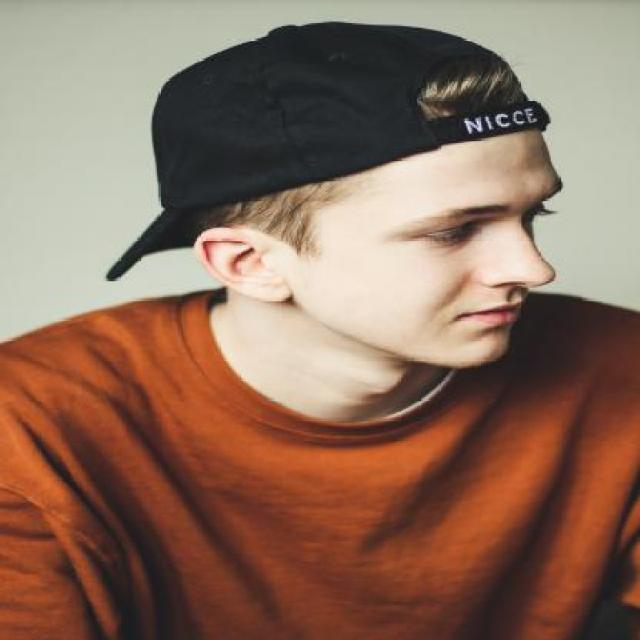closed-mouth: (452, 292, 536, 332)
